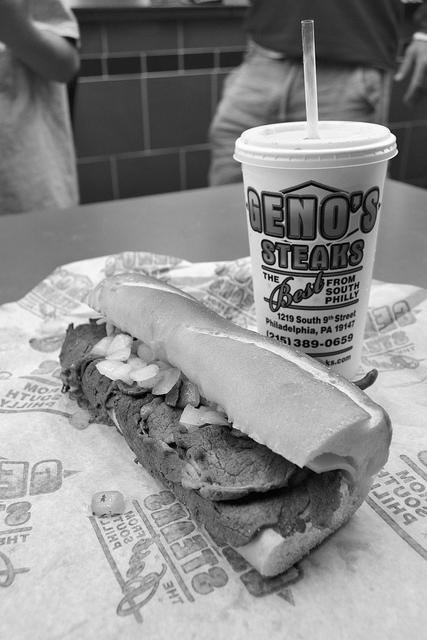bottle: (234, 123, 394, 378)
